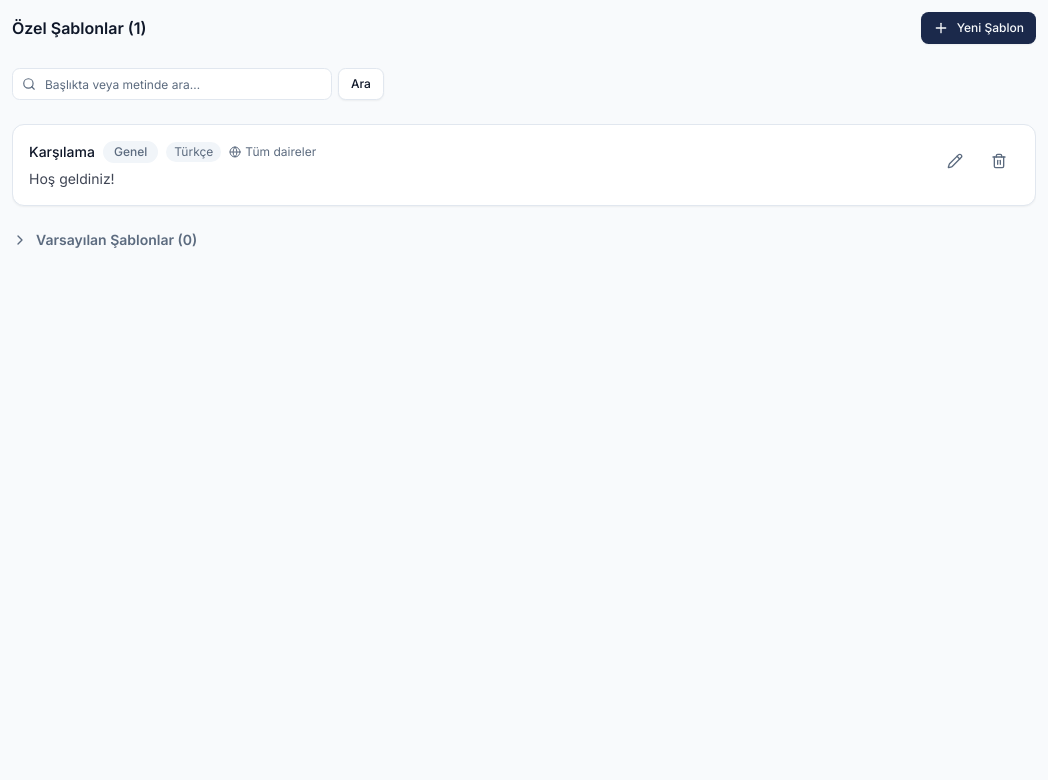
Test: şablon düzenleme — geç dönen tam metin okuması sonradan açılan formu ezmez (11-19 gece, Haiku bulgusu) › 🚨 'Düzenle' beklerken açık form 'İptal' ile kapatılırsa geç gelen yanıt formu yeniden AÇMAZ
What coordinates should you click on to do the following:
click the button "Yeni Şablon"
I would click on:
 (978, 28)
Its box is 921,12 -> 1036,44.
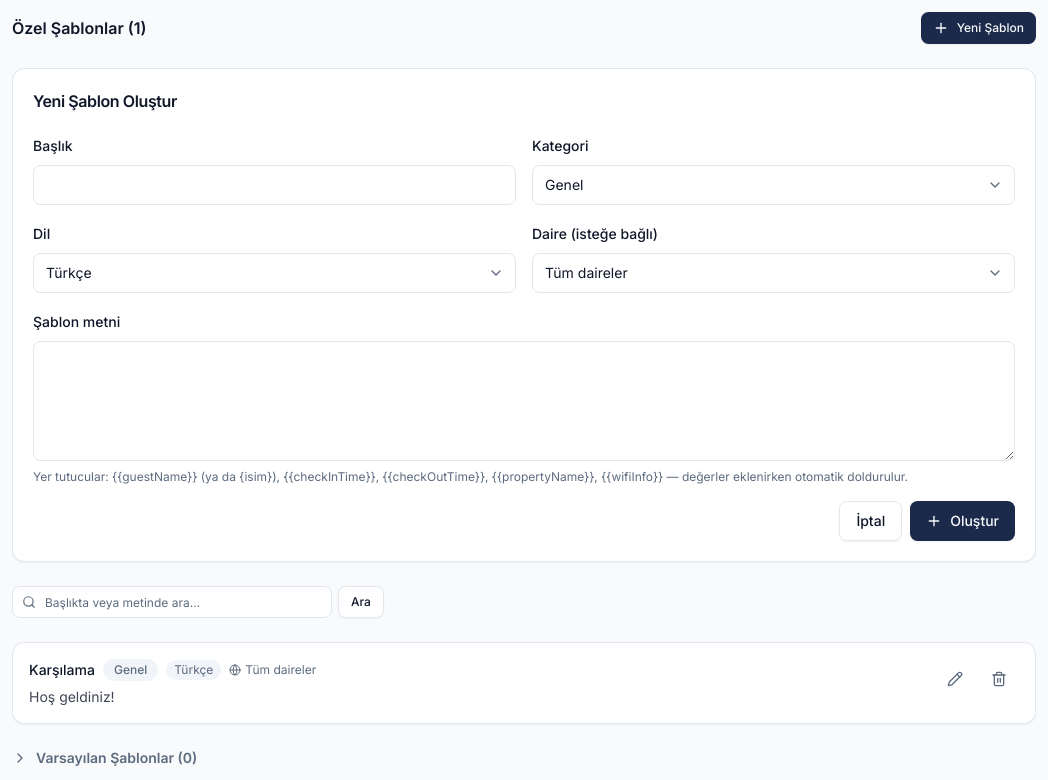
What coordinates should you click on to do the following:
click the button named "Düzenle"
I would click on:
 (955, 679)
Its box is 935,659 -> 975,699.
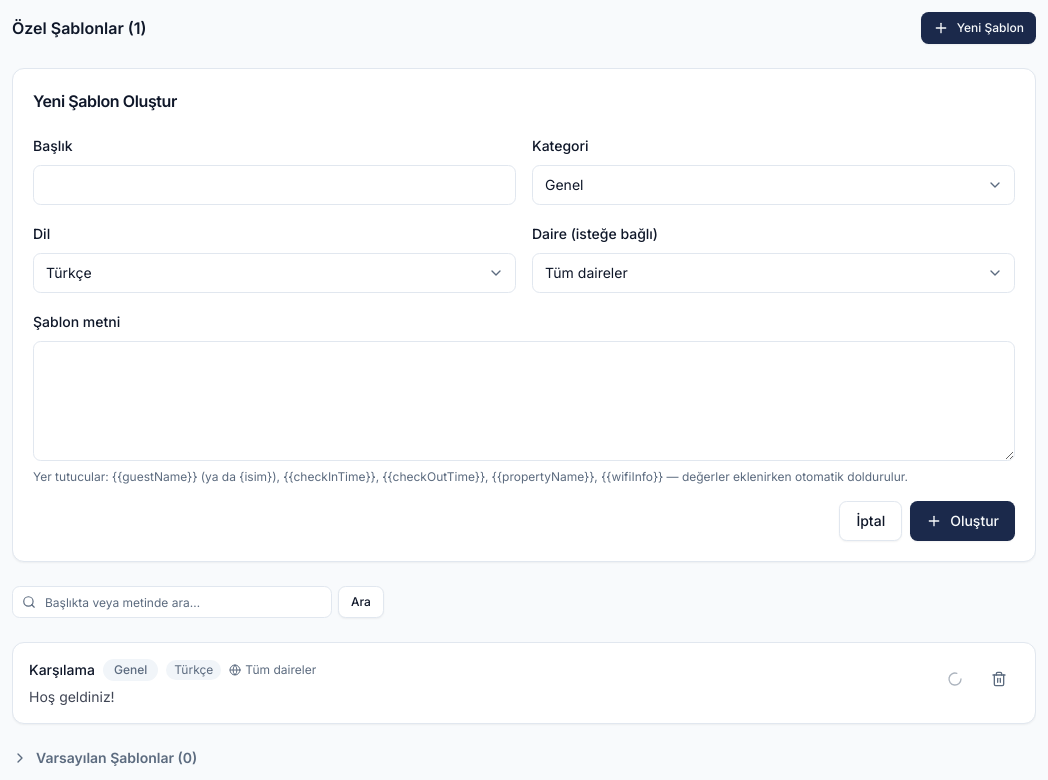
What coordinates should you click on to do the following:
click the button "İptal"
I would click on:
 (871, 521)
Its box is 839,501 -> 902,541.
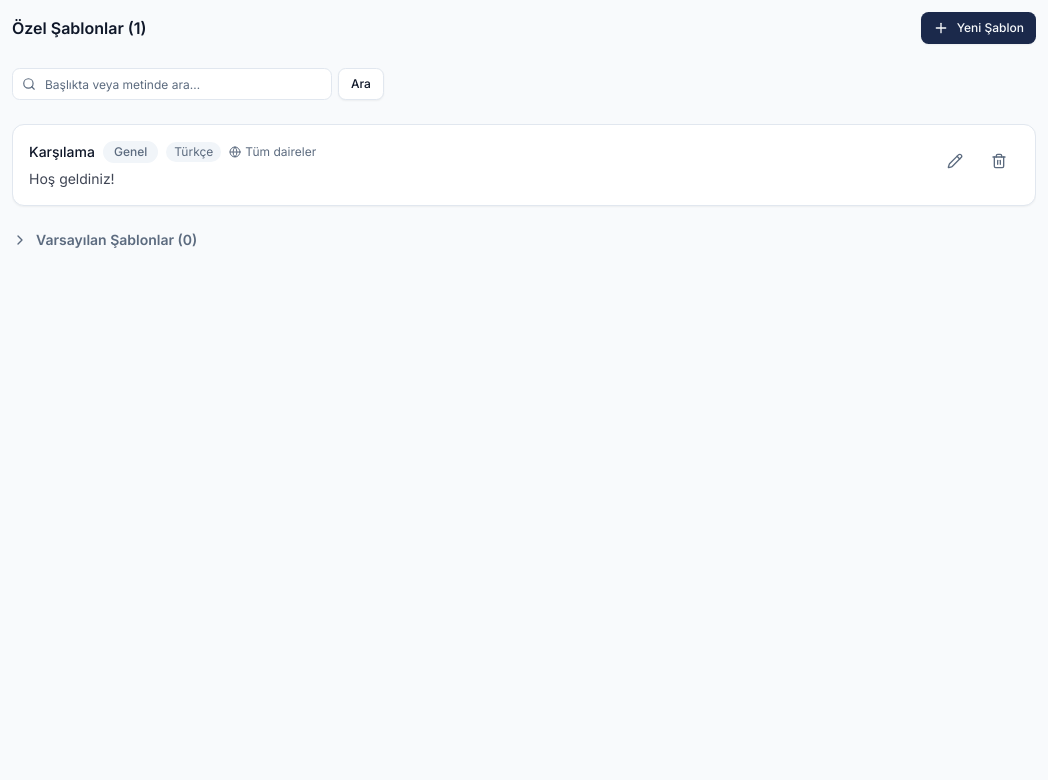
Expected: the label labelled "Şablon metni" is gone
